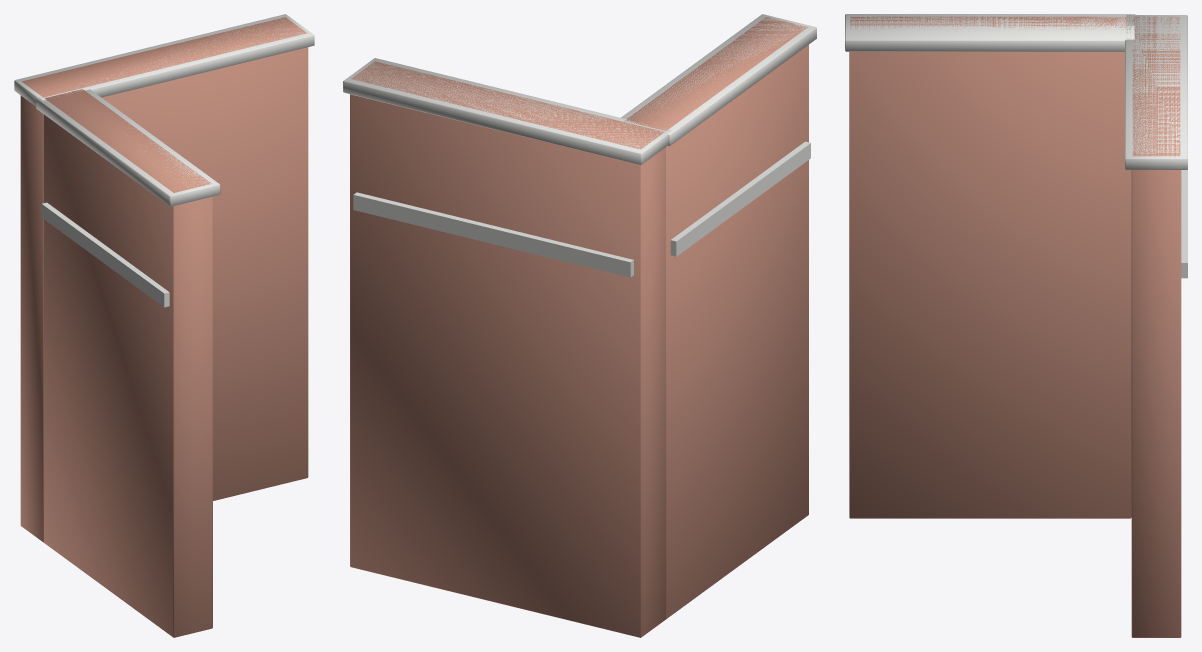
The model's file is Brick_Corner.fbx.
The picture shows the model from 3 angles, left to right: view 1: azimuth 30°, elevation 25°; view 2: azimuth 150°, elevation 25°; view 3: azimuth 270°, elevation 25°; orthographic projection. The views are drawn at different scales.
Parts seen in each view (by area): view 1: LOD0; view 2: LOD0; view 3: LOD0.
Part boxes in pixels (x1=…): LOD0: x1=14, y1=14, x2=314, y2=637; LOD0: x1=343, y1=14, x2=816, y2=637; LOD0: x1=845, y1=14, x2=1187, y2=637.
Size of what is drawn, in the model's own units: 206 by 320 by 206.
